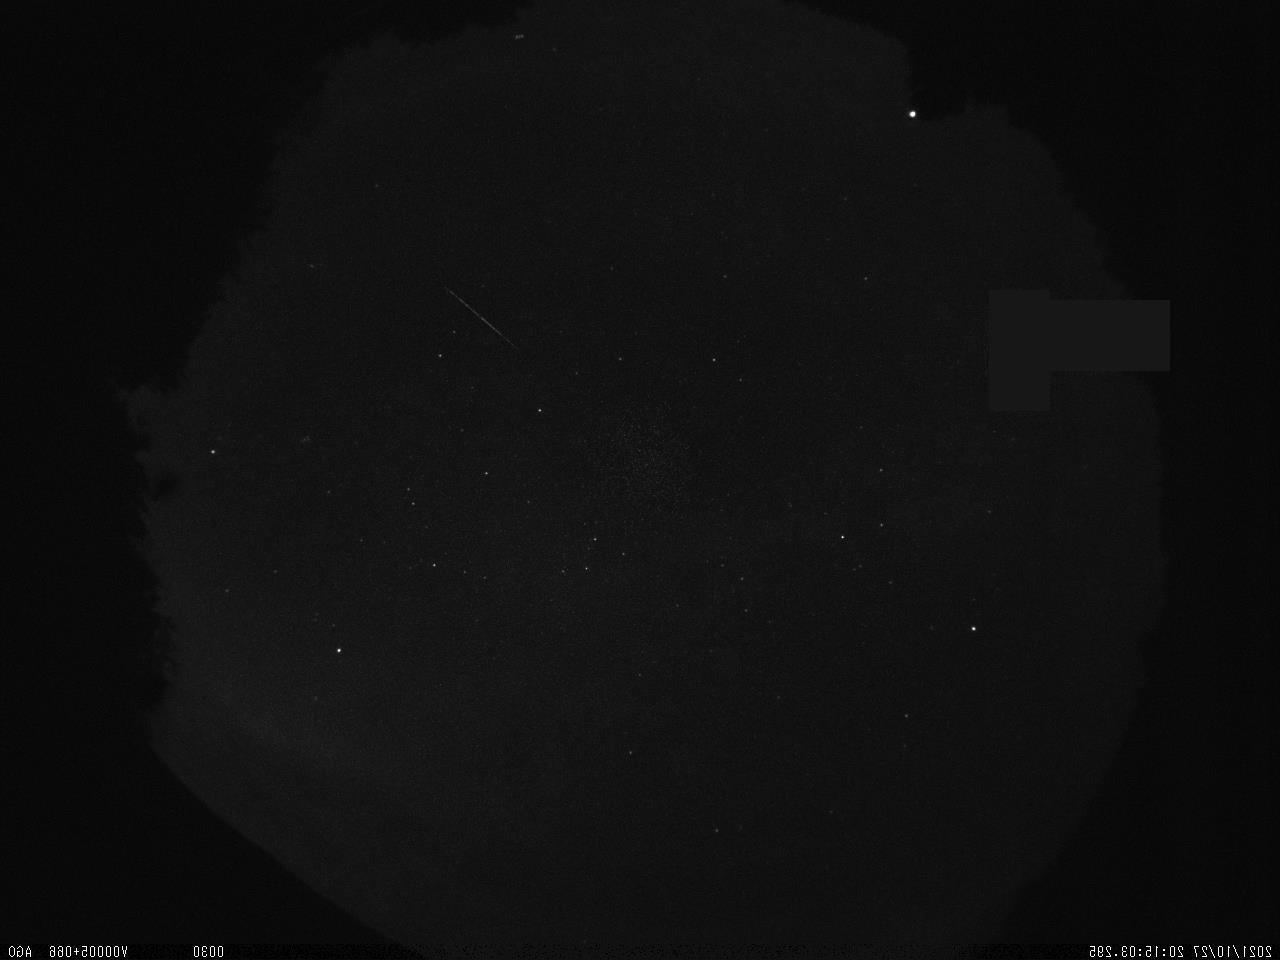meteor: (435, 271, 516, 344)
